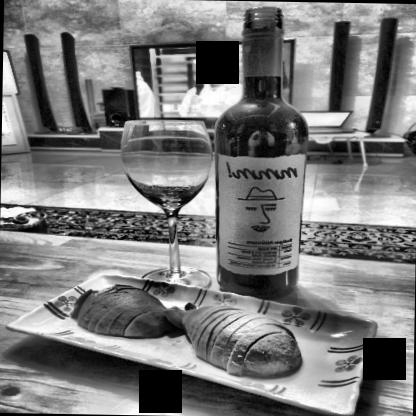umm: (214, 151, 304, 278)
